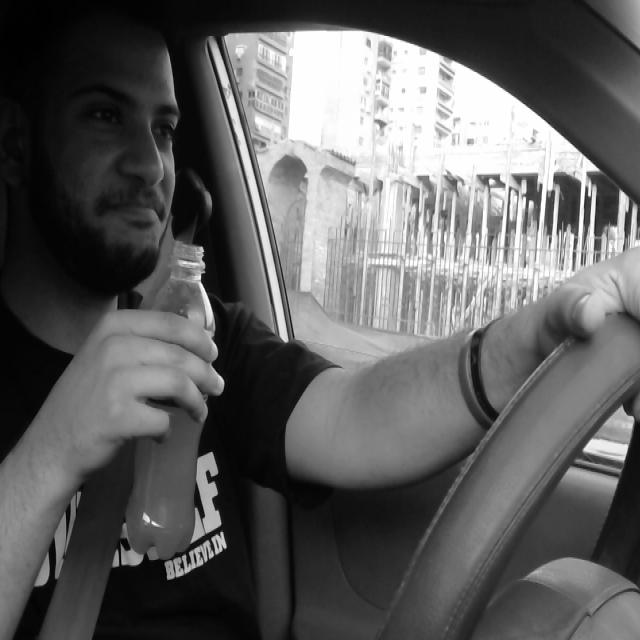drinking: (121, 244, 219, 566)
